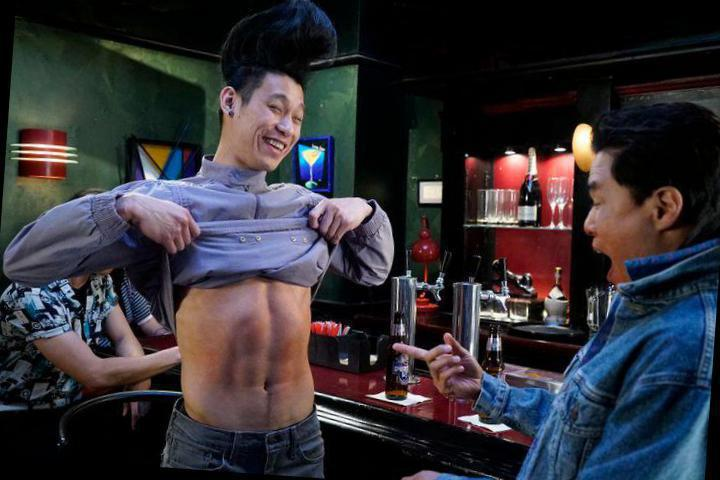Drunk: (247, 70, 304, 171)
